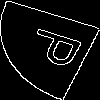P: (25, 25, 95, 73)
